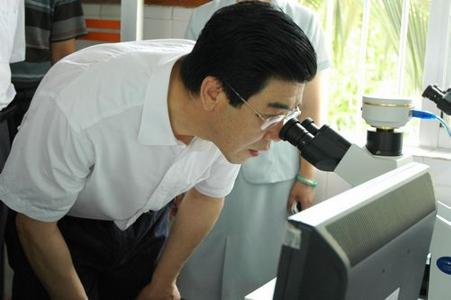person: (2, 4, 317, 300)
